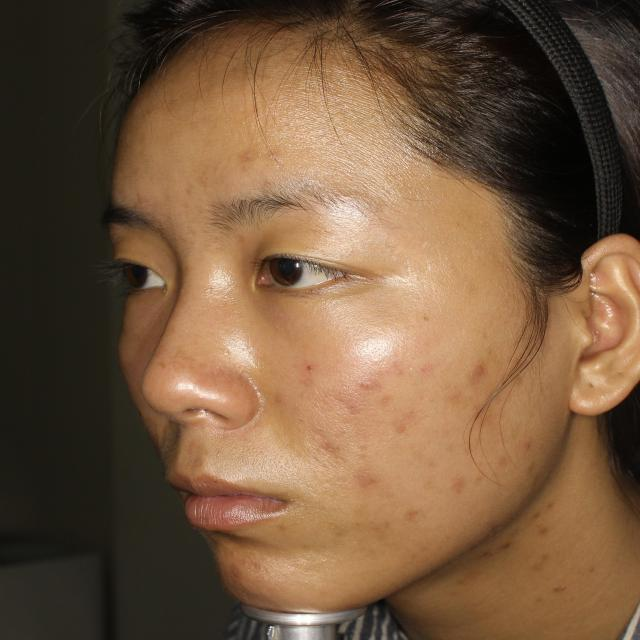acne: (457, 353, 505, 381), (508, 434, 546, 462), (440, 384, 478, 411), (445, 471, 471, 505), (350, 465, 385, 489), (313, 429, 343, 455), (331, 401, 363, 424), (387, 408, 410, 437), (355, 374, 379, 397), (264, 391, 289, 403), (338, 438, 352, 449)
